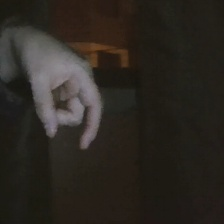Q: (6, 11, 123, 165)
